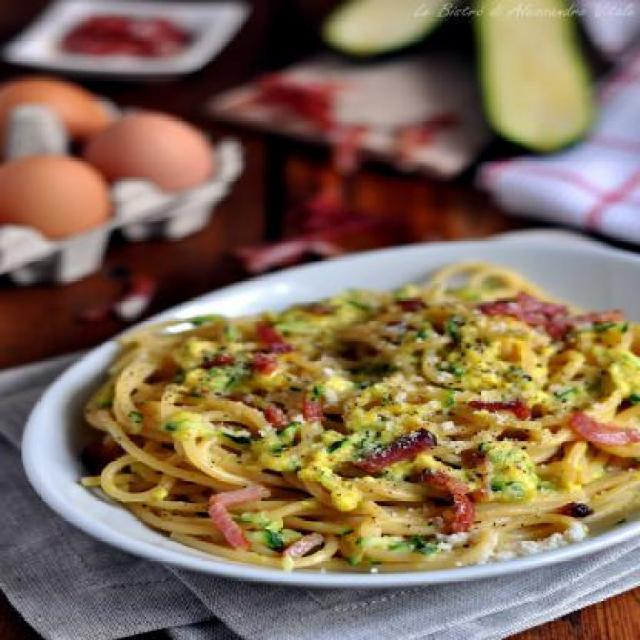Pasta with carbonara sauce: (40, 234, 640, 608)
